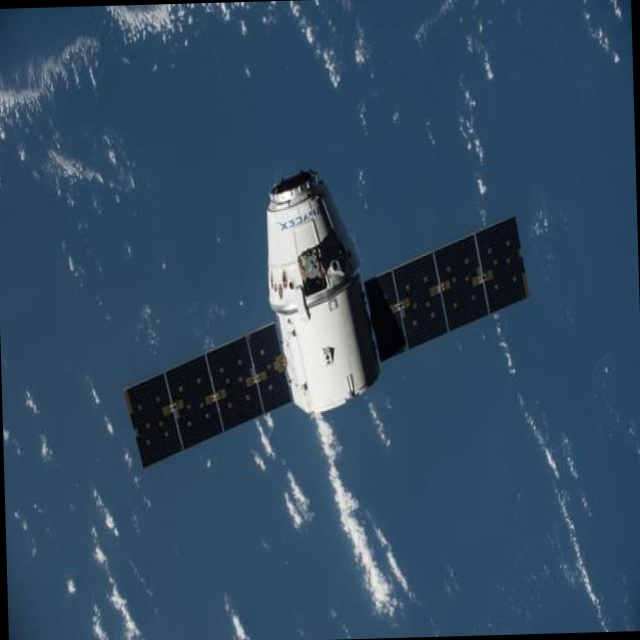satellite: (100, 157, 539, 512)
